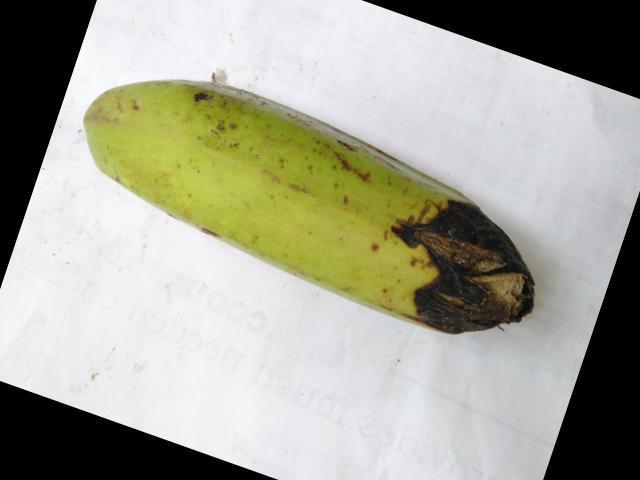rotten: (363, 154, 570, 372)
